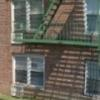stairs: (46, 50, 91, 94), (52, 3, 92, 36)
